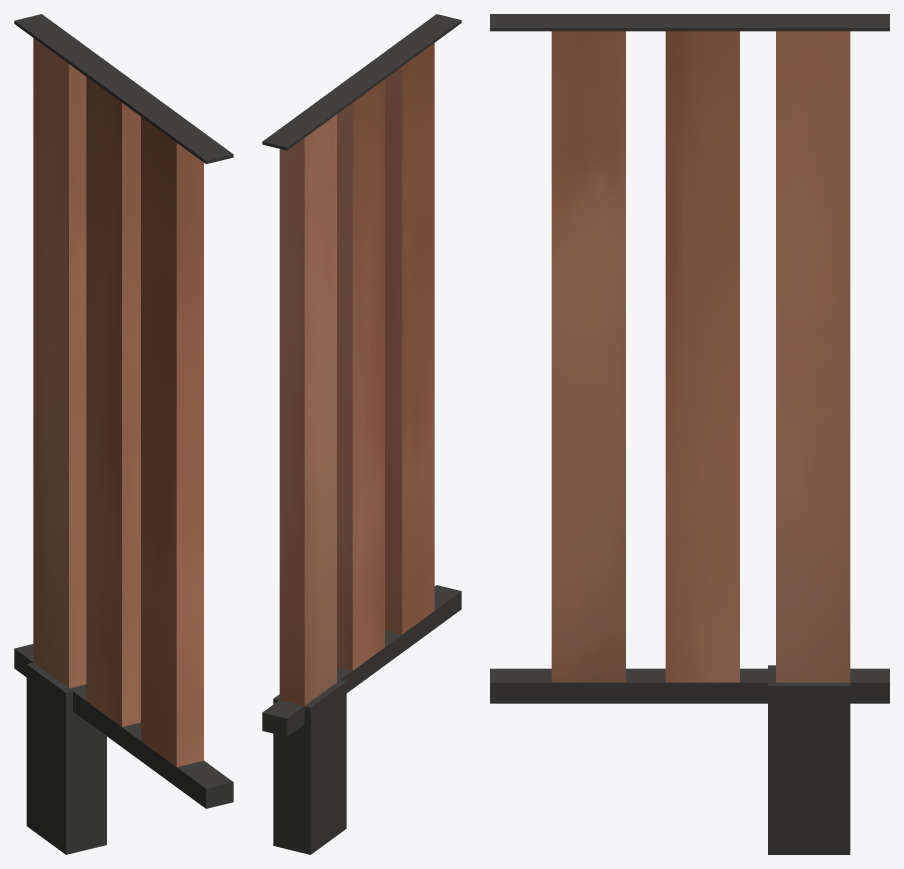
Rendered from FenceContempSmall_Modular.fbx.
3 renders of one model, left to right at view 1: azimuth 30°, elevation 25°; view 2: azimuth 150°, elevation 25°; view 3: azimuth 270°, elevation 25°, orthographic. The views are drawn at different scales.
Visible parts, largest first — view 1: FenceContempSmall_Modular; view 2: FenceContempSmall_Modular; view 3: FenceContempSmall_Modular.
Part boxes in pixels (left/top/right/bottom): FenceContempSmall_Modular: left=14, top=14, right=233, bottom=854; FenceContempSmall_Modular: left=262, top=14, right=461, bottom=854; FenceContempSmall_Modular: left=490, top=14, right=889, bottom=854.
Size of the model in its own units: 10.29 by 190 by 83.58.
